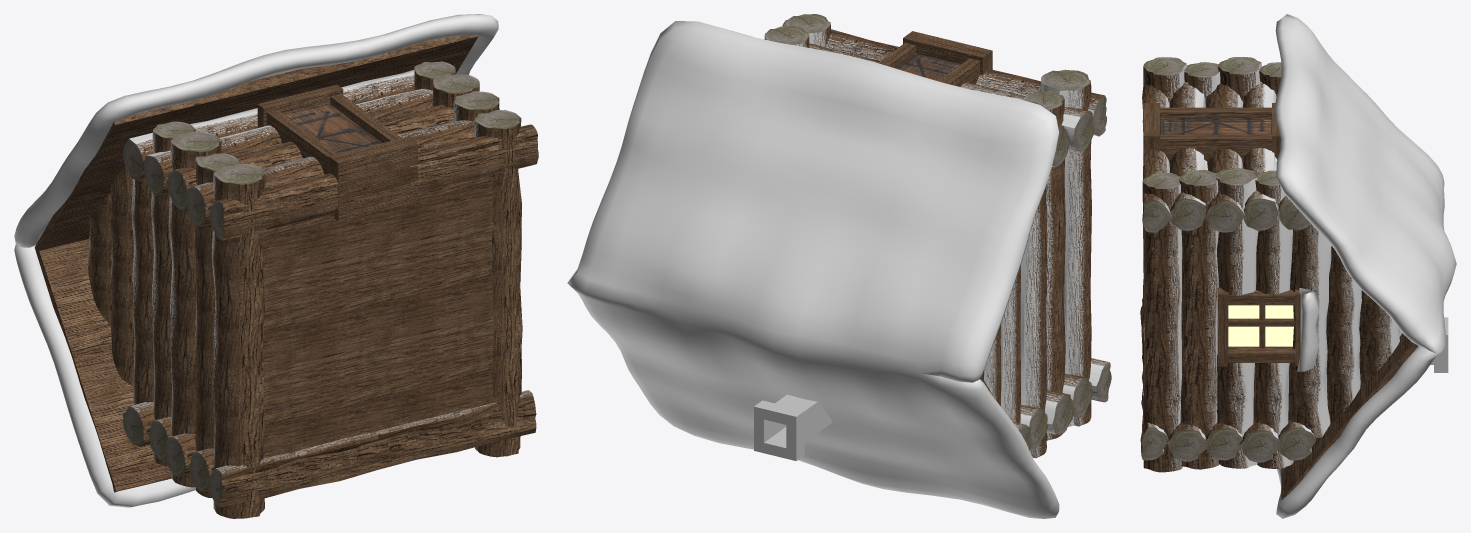
File: hut.dae
3 views of the same model, side by side, from view 1: azimuth 30°, elevation 25°; view 2: azimuth 150°, elevation 25°; view 3: azimuth 270°, elevation 25° (orthographic). The views are drawn at different scales.
Visible parts, largest first — view 1: floor, roof, roofSnow, log011, log001, doorFrame, log010, log012, log003, log008, log016, log021 (+14 smaller); view 2: roofSnow, log011, log003, log008, chimney, doorFrame, log010, log016, log005, log009, door, log012 (+5 smaller); view 3: roofSnow, log012, log007, log004, log015, log019, log022, doorFrame, windowFrame, roof, log005, log002 (+17 smaller).
Boxes of the visible parts, box(x1,y1,x2,y2) form: floor: box(258, 175, 493, 458); roof: box(34, 35, 478, 492); roofSnow: box(14, 14, 498, 507); log011: box(211, 164, 265, 518); log001: box(208, 390, 536, 507); doorFrame: box(257, 84, 417, 220); log010: box(209, 124, 538, 240); log012: box(474, 110, 522, 457); log003: box(168, 131, 221, 487); log008: box(194, 153, 239, 497); log016: box(151, 121, 195, 466); log021: box(110, 167, 134, 385); roofSnow: box(567, 21, 1059, 518); log011: box(1040, 69, 1091, 426); log003: box(1020, 101, 1047, 458); log008: box(1023, 91, 1065, 440); chimney: box(754, 394, 832, 460); doorFrame: box(878, 31, 992, 86); log010: box(782, 20, 1106, 136); log016: box(1000, 265, 1020, 423); log005: box(809, 43, 1094, 151); log009: box(1045, 390, 1074, 434); door: box(896, 53, 960, 80); log012: box(785, 14, 830, 47); roofSnow: box(1274, 14, 1456, 518); log012: box(1142, 173, 1182, 472); log007: box(1179, 170, 1219, 469); log004: box(1216, 168, 1258, 468); log015: box(1253, 170, 1293, 468); log019: box(1288, 223, 1331, 437); log022: box(1326, 246, 1361, 423); doorFrame: box(1143, 103, 1280, 163); windowFrame: box(1217, 287, 1300, 366); roof: box(1281, 333, 1418, 499); log005: box(1169, 82, 1207, 230); log002: box(1205, 83, 1244, 232).
Bounding box in the file's own units: 8.46 × 6.55 × 8.23.
